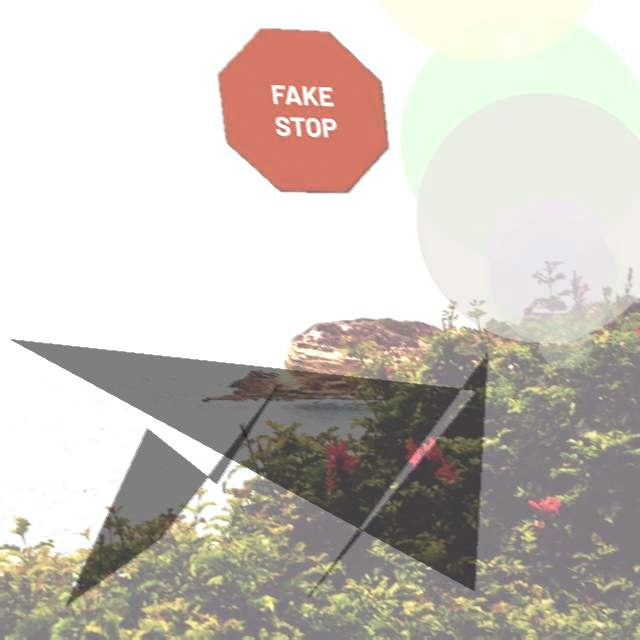FAKE_STOP: (216, 28, 388, 194)
